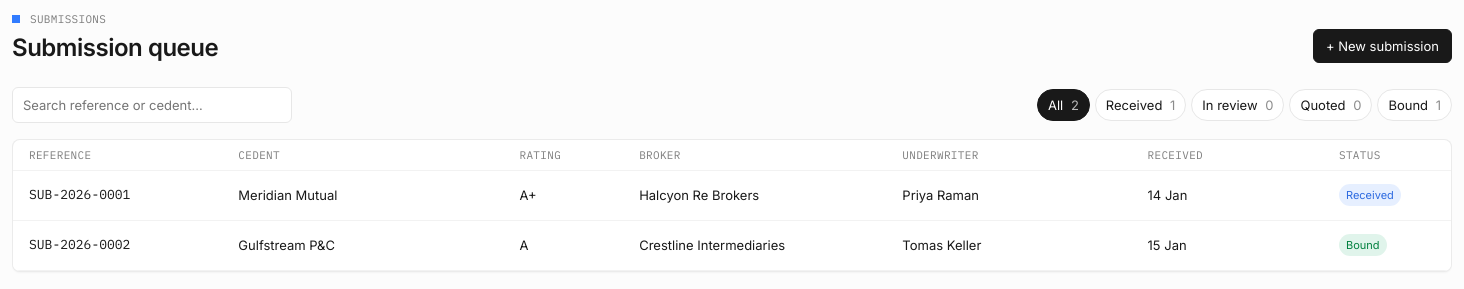
it: SubmissionQueueScreen › filters rows when a status chip is selected
Expected: the text "SUB-2026-0001" is shown, [29,186,130,203]
Expected: the text "SUB-2026-0002" is shown, [29,236,130,253]
Click the button "Bound 1" at (1415, 105), box [1377,89,1452,121]
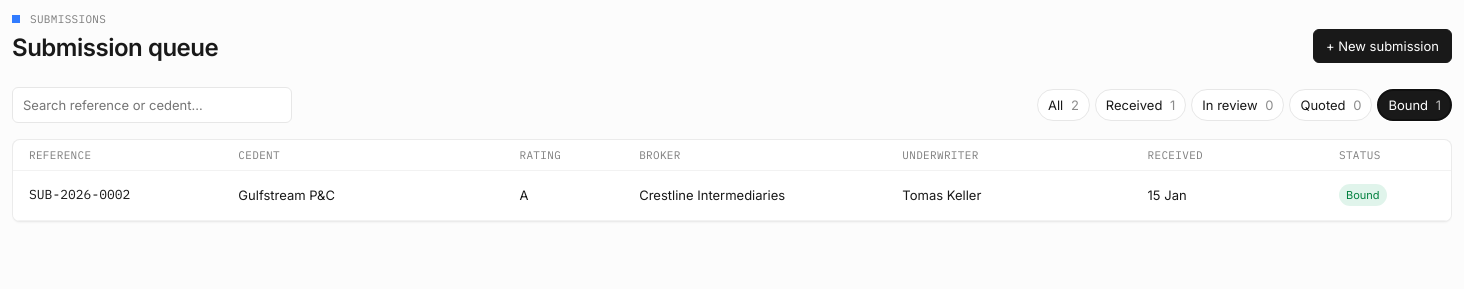
Expected: the text "SUB-2026-0002" is shown, [29,186,130,203]
Expected: the button "SUB-2026-0001" is gone
